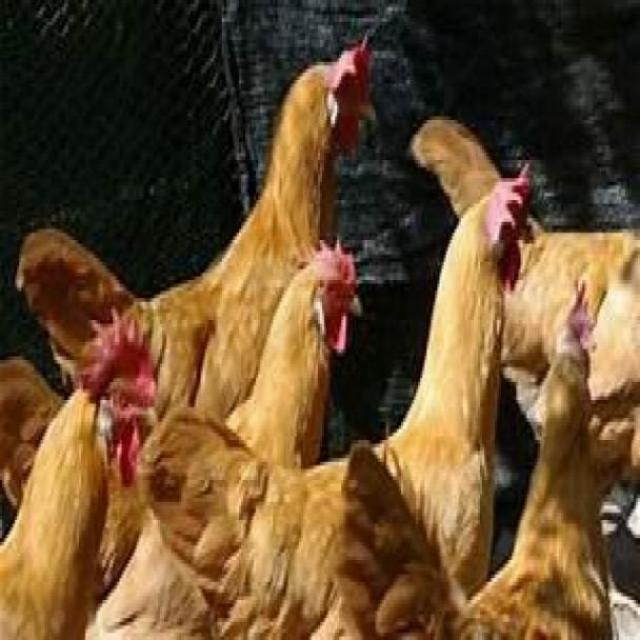Chicken: (137, 160, 538, 640), (0, 236, 365, 640), (15, 33, 380, 389), (331, 276, 614, 640), (410, 115, 640, 541), (0, 305, 158, 640)
